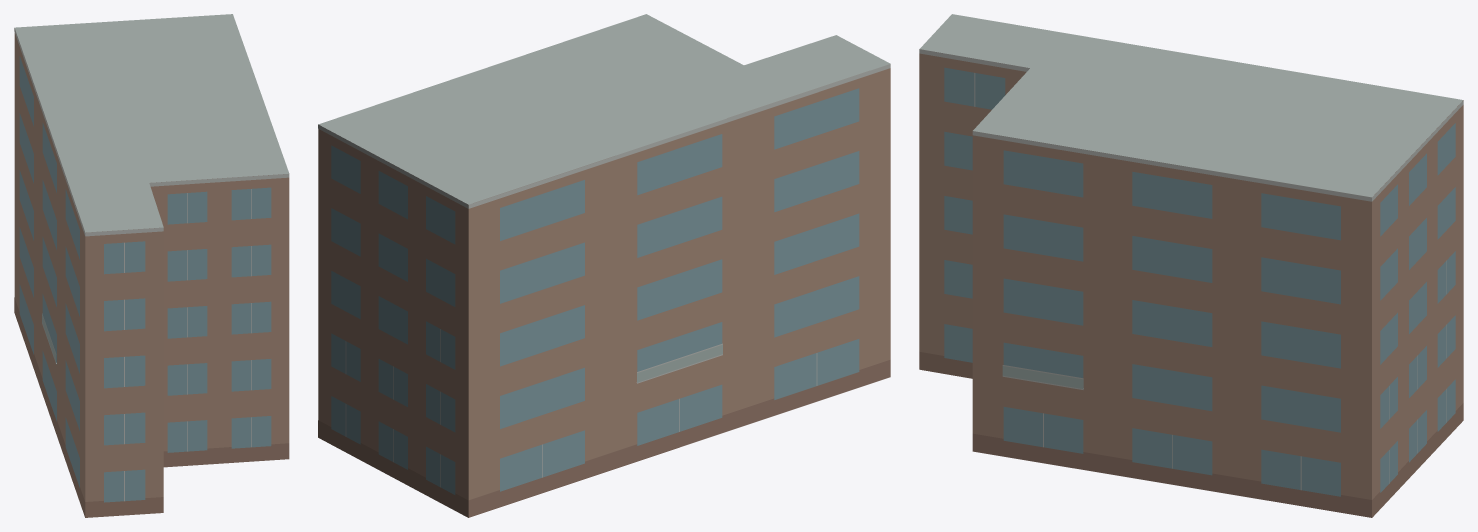
File: survey-upis-32487839.glb
The picture shows the model from 3 angles, left to right: view 1: azimuth 30°, elevation 25°; view 2: azimuth 150°, elevation 25°; view 3: azimuth 270°, elevation 25°; orthographic projection. The views are drawn at different scales.
Parts seen in each view (by area): view 1: survey-upis-32487839.tmp; view 2: survey-upis-32487839.tmp; view 3: survey-upis-32487839.tmp.
Boxes of the visible parts, bbox=[...] form: survey-upis-32487839.tmp: bbox=[14, 14, 289, 517]; survey-upis-32487839.tmp: bbox=[318, 14, 890, 517]; survey-upis-32487839.tmp: bbox=[919, 14, 1463, 517].
Size of the model in its own units: 21.97 by 17.9 by 27.55.
